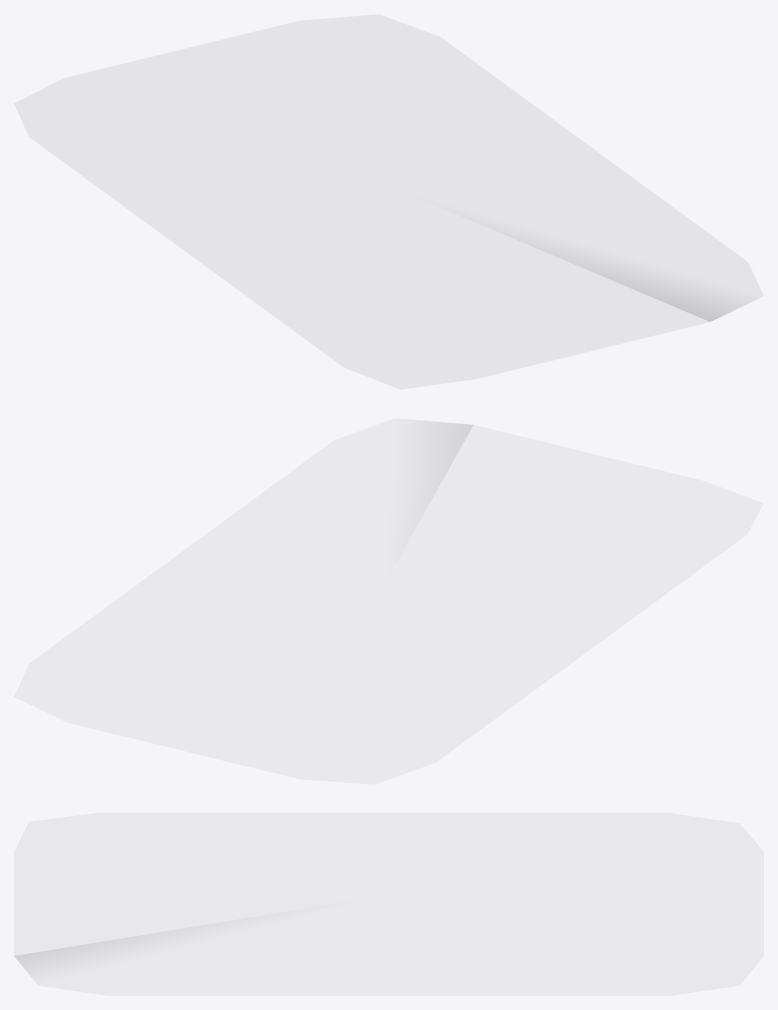
3 views of the same model, one above another, from view 1: azimuth 30°, elevation 25°; view 2: azimuth 150°, elevation 25°; view 3: azimuth 270°, elevation 25° (orthographic). The views are drawn at different scales.
Visible parts, largest first — view 1: Joint_0_Object_0; view 2: Joint_0_Object_0; view 3: Joint_0_Object_0.
Part boxes in pixels (x1=…): Joint_0_Object_0: x1=493, y1=229, x2=747, y2=321; Joint_0_Object_0: x1=410, y1=420, x2=473, y2=536; Joint_0_Object_0: x1=14, y1=915, x2=266, y2=976.
Size of the model in its own units: 206 by 5.61 by 357.
Materials: 1 (1 with a texture image).
